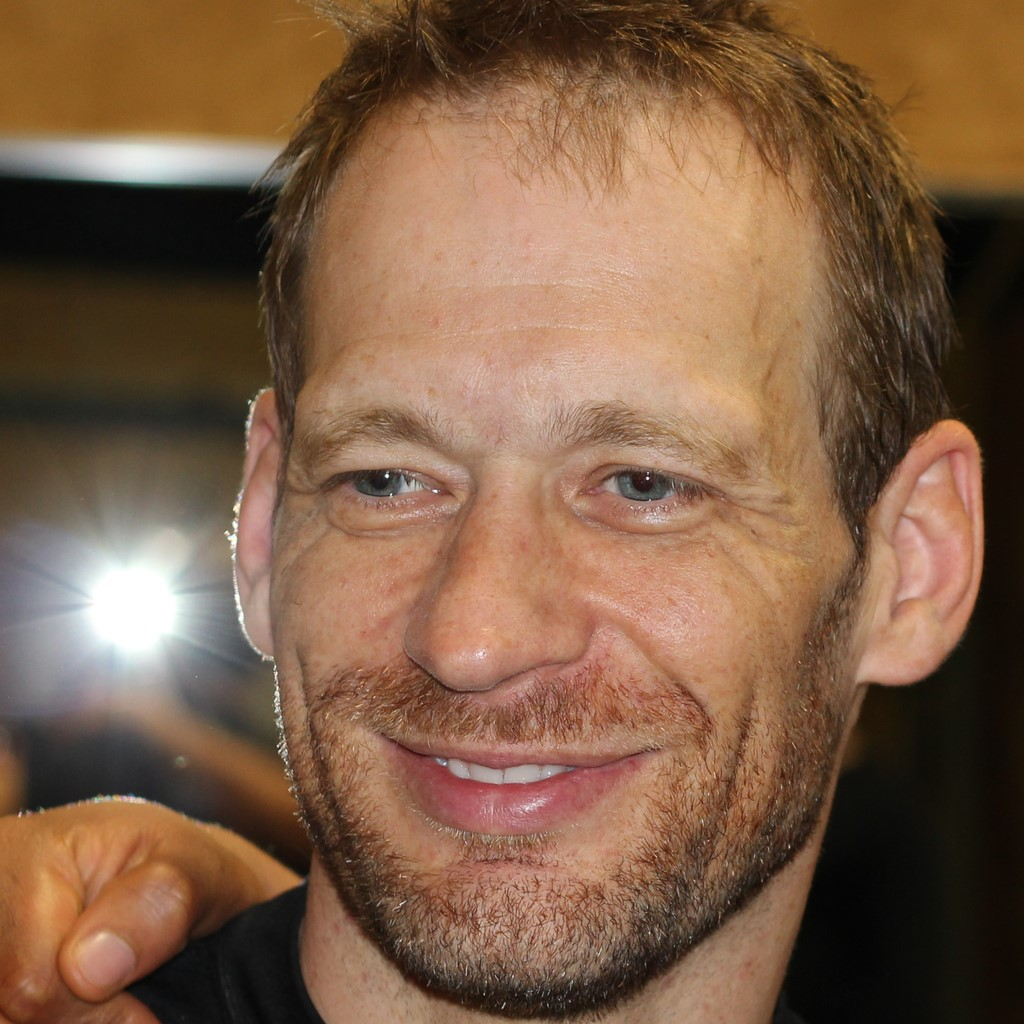sin_mascara: (274, 89, 878, 1023)
